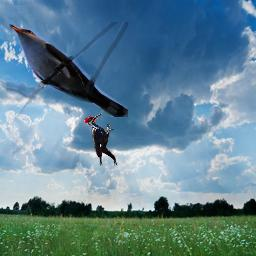Cuckoo: (6, 22, 128, 117)
Woodpecker: (83, 113, 117, 166)
